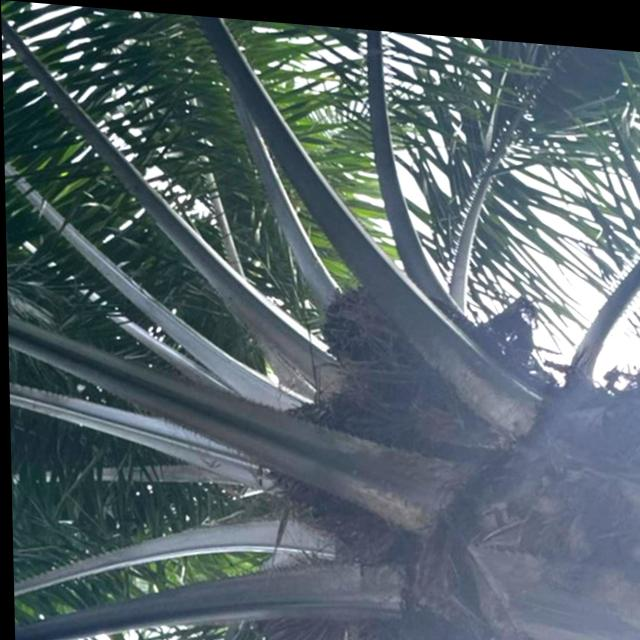unripe: (314, 272, 448, 406)
